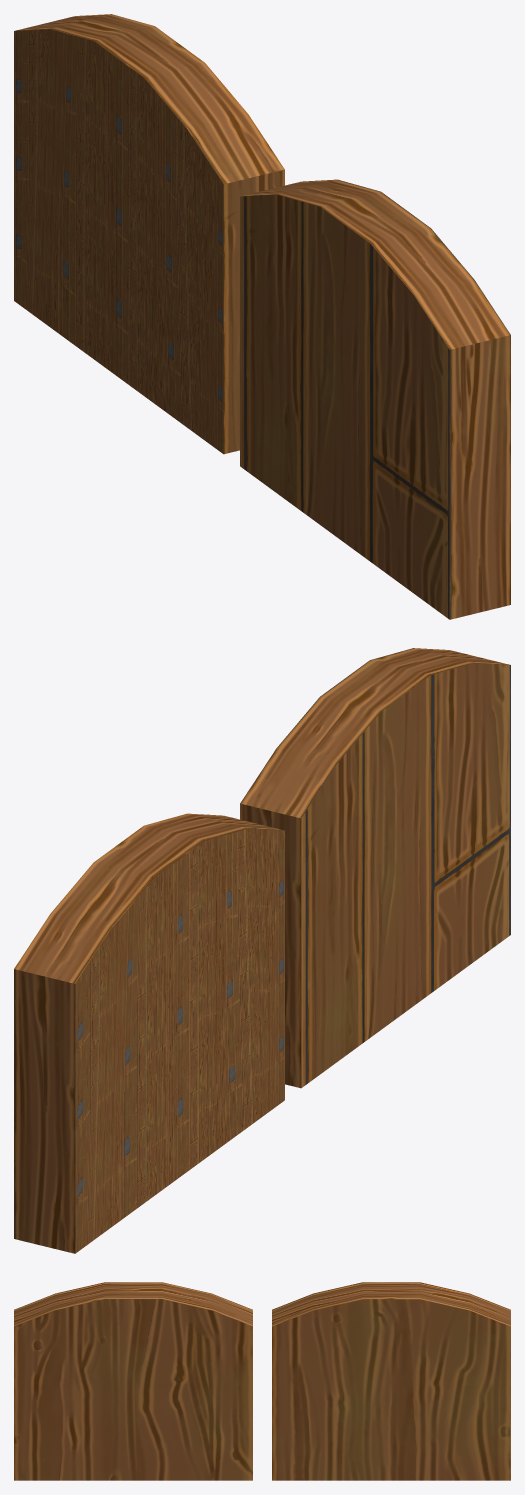
The picture shows the model from 3 angles, top to bottom: view 1: azimuth 30°, elevation 25°; view 2: azimuth 150°, elevation 25°; view 3: azimuth 270°, elevation 25°; orthographic projection. The views are drawn at different scales.
Visible parts, largest first — view 1: Cube.1215; view 2: Cube.1215; view 3: Cube.1215.
Part boxes in pixels (x1=…): Cube.1215: x1=14, y1=14, x2=510, y2=619; Cube.1215: x1=14, y1=648, x2=510, y2=1253; Cube.1215: x1=14, y1=1282, x2=510, y2=1480.
Bounding box in the file's own units: 20.67 × 103 × 255.
1 material, 1 textured.
